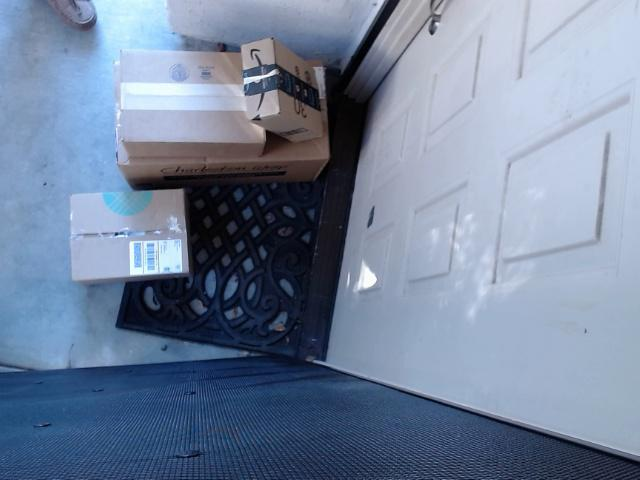box: (95, 28, 341, 192), (111, 36, 281, 167), (50, 182, 206, 292), (235, 31, 331, 152)
